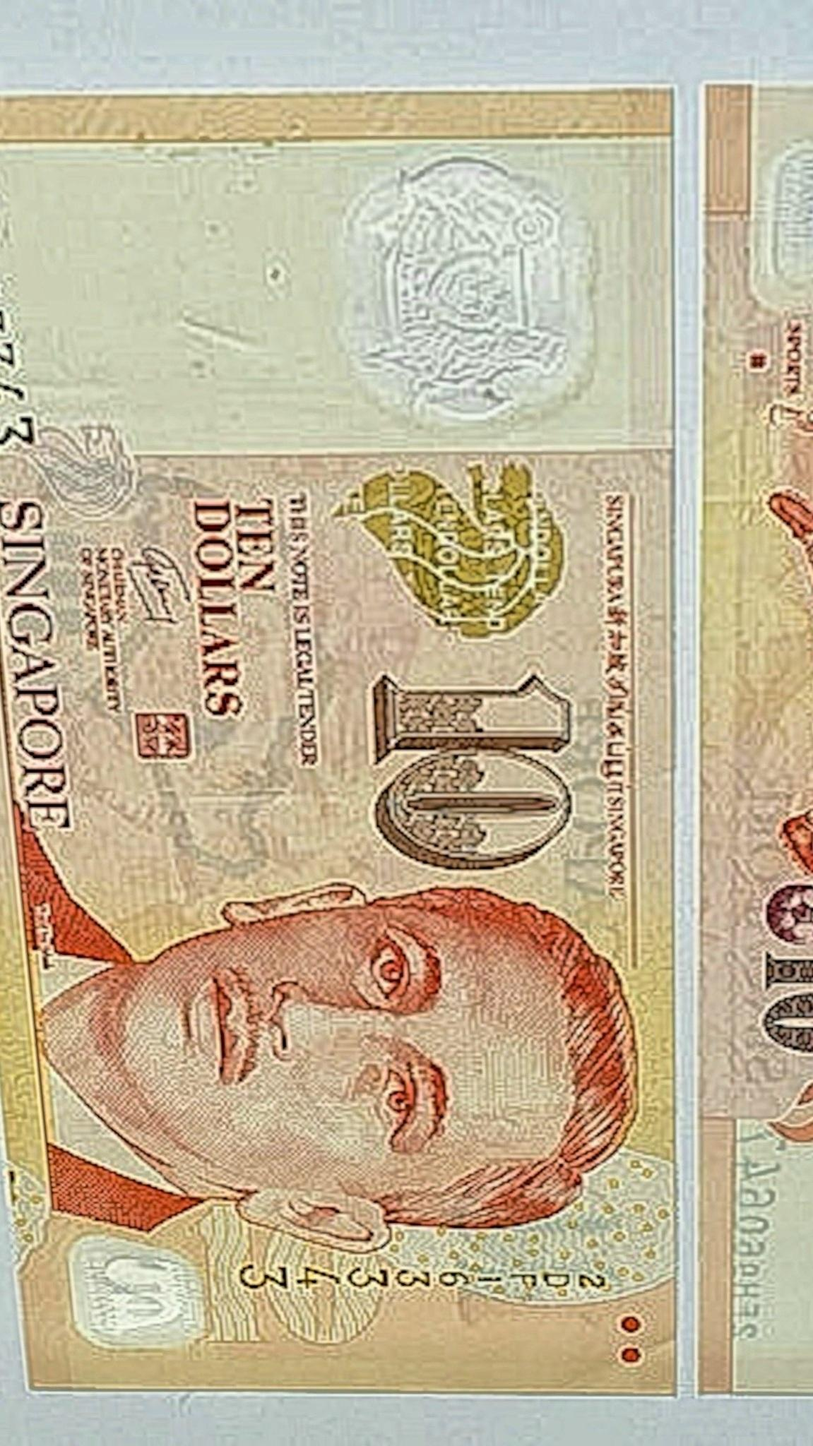10SingaporeDollar: (0, 96, 679, 1396)
